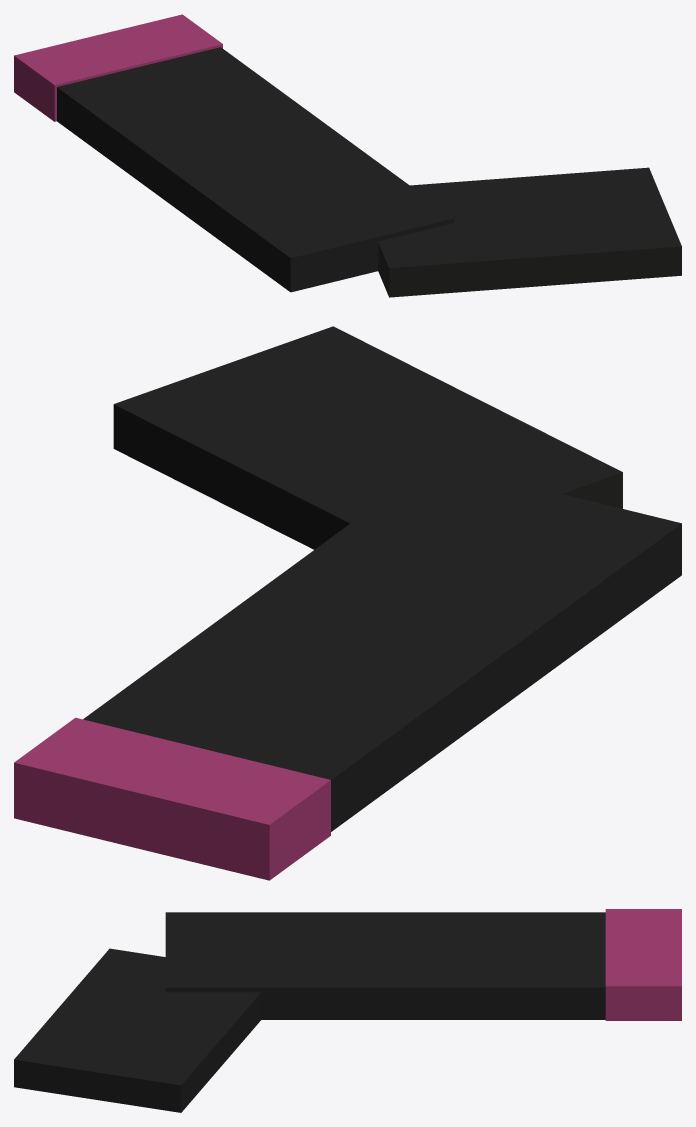
File: sock-dropped-vibe.glb
3 renders of one model, top to bottom at view 1: azimuth 30°, elevation 25°; view 2: azimuth 150°, elevation 25°; view 3: azimuth 270°, elevation 25°, orthographic. The views are drawn at different scales.
Parts seen in each view (by area): view 1: rubber, accent-magenta; view 2: rubber, accent-magenta; view 3: rubber, accent-magenta.
Part boxes in pixels (<box>): rubber: <box>57,47,681,297</box>; accent-magenta: <box>14,14,222,121</box>; rubber: <box>83,326,681,831</box>; accent-magenta: <box>14,717,330,880</box>; rubber: <box>14,912,605,1112</box>; accent-magenta: <box>605,909,681,1020</box>.
Bounding box in the file's own units: 0.1577 × 0.015 × 0.2627.
